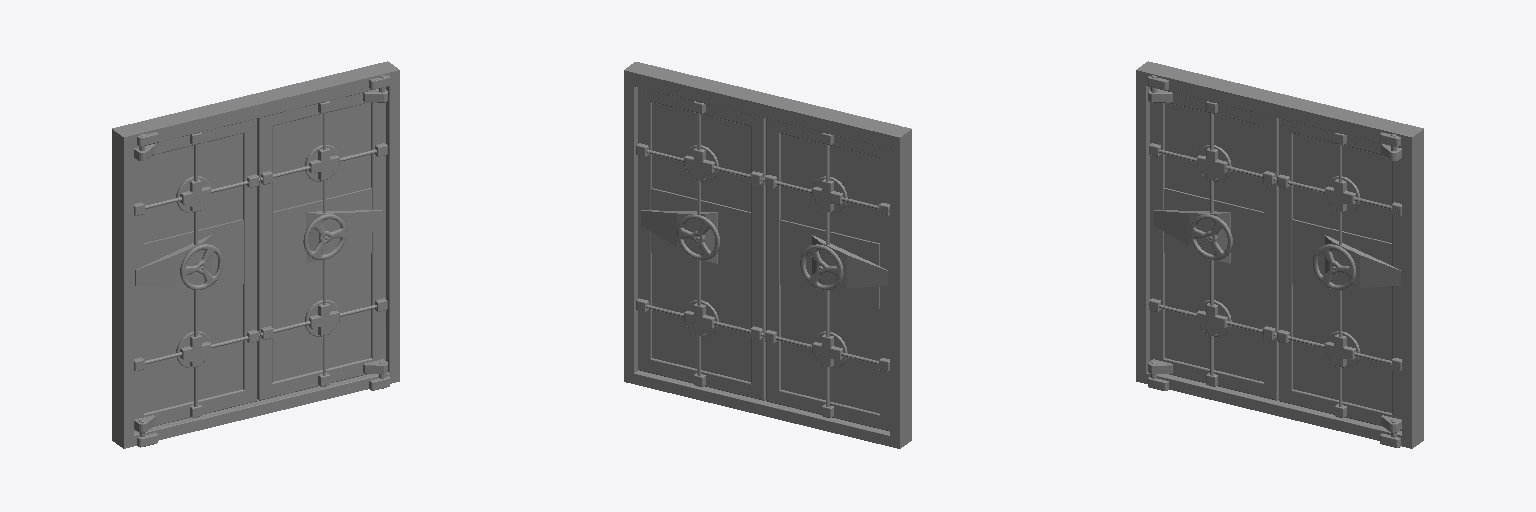
File: DoubleDoor.obj
3 views of the same model, side by side, from view 1: azimuth 30°, elevation 25°; view 2: azimuth 150°, elevation 25°; view 3: azimuth 330°, elevation 25° (orthographic).
Parts seen in each view (by area): view 1: Door_1_2, Door_5, Base_4; view 2: Door_1_2, Door_5, Base_4; view 3: Door_5, Door_1_2, Base_4.
Part boxes in pixels (x1,y1,x2,y2): Door_1_2: (257,75,387,400); Door_5: (134,119,259,436); Base_4: (112,61,399,448); Door_1_2: (636,88,765,400); Door_5: (763,119,894,431); Base_4: (624,62,911,448); Door_5: (1148,75,1278,400); Door_1_2: (1276,119,1401,437); Base_4: (1136,61,1423,448).
Size of the model in its own units: 2.13 by 2.31 by 0.2415.